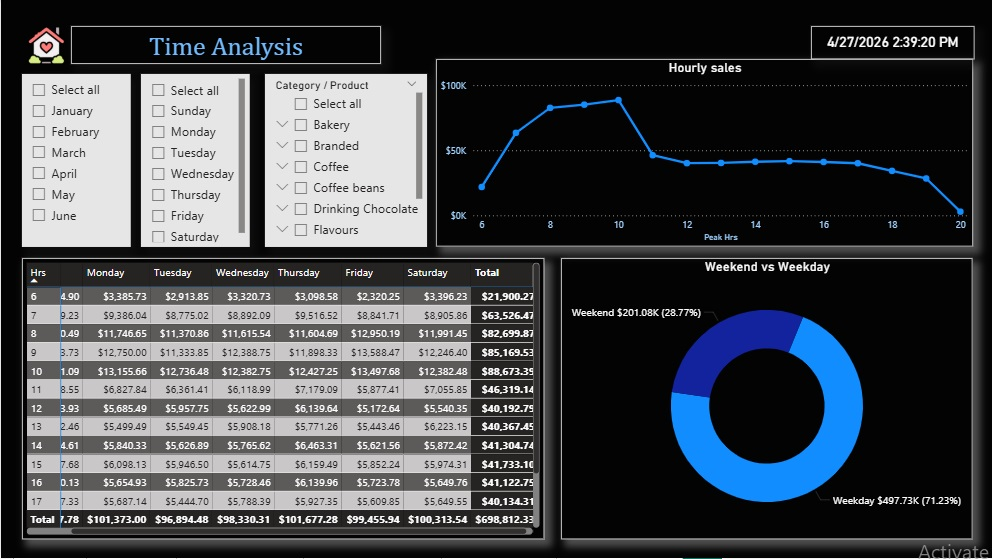

The page's visual inventory and layout, read from the dashboard file:
{"tool":"powerbi","page":{"name":"Time Analysis","canvas":[1280,720],"ordinal":4},"visuals":[{"type":"lineChart","title":"Hourly sales","fields":{"Category":["Sales.Peak Hrs Label"],"Y":["Sales.Total Revenue"]},"box":[561.6,76.3,692.6,241.9],"z":0},{"type":"shape","box":[90.7,33.1,400,49],"z":1000},{"type":"image","box":[27.5,33,63.3,49.5],"z":2000},{"type":"card","fields":{"Values":["Calender.Run Time"]},"box":[1044.6,33,210.6,42.7],"z":3000},{"type":"slicer","fields":{"Values":["Calender.Month Name"]},"box":[27.5,95.6,140.1,222.5],"z":4000},{"type":"pivotTable","fields":{"Values":["Sales.Total Revenue"],"Columns":["Calender.Day"],"Rows":["Sales.Peak Hrs Label"]},"box":[27.5,333.1,674.4,363.4],"z":5000},{"type":"donutChart","title":"Weekend vs Weekday","fields":{"Category":["Calender.Week type"],"Y":["Sales.Total Revenue"]},"box":[722.9,332.6,531.4,362.9],"z":6000},{"type":"slicer","fields":{"Values":["Calender.Day"]},"box":[180.7,95.6,140.1,222.5],"z":7000},{"type":"slicer","fields":{"Values":["Category.product_category","Product.product_type"]},"box":[340.4,95.6,209.5,222.5],"z":8000}]}

Visuals, with their boxes in screenshot pixels (x1, y1, x2, y2), scaled from the page's 1280x720 canvas onto the 992x559 screenshot:
"Hourly sales" lineChart: 435, 59, 972, 247
shape: 70, 26, 380, 64
image: 21, 26, 70, 64
card - Calender.Run Time: 810, 26, 973, 59
slicer - Calender.Month Name: 21, 74, 130, 247
pivotTable - Sales.Total Revenue x Calender.Day: 21, 259, 544, 541
"Weekend vs Weekday" donutChart: 560, 258, 972, 540
slicer - Calender.Day: 140, 74, 249, 247
slicer - Category.product_category x Product.product_type: 264, 74, 426, 247
